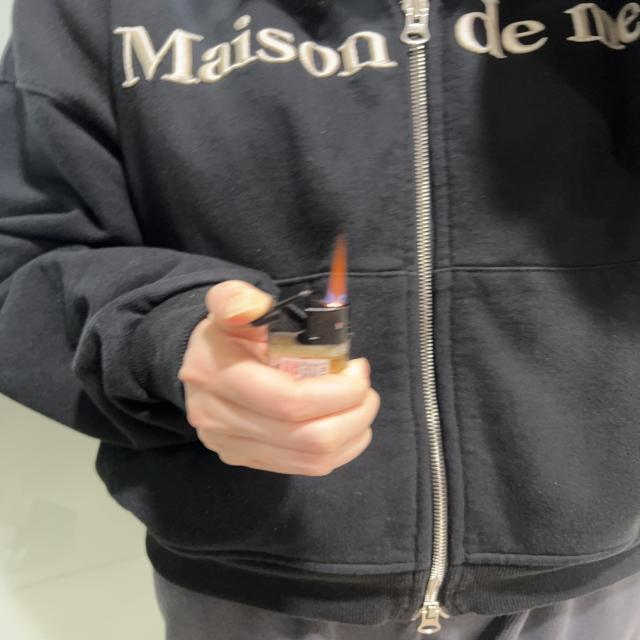fire: (322, 237, 354, 303)
